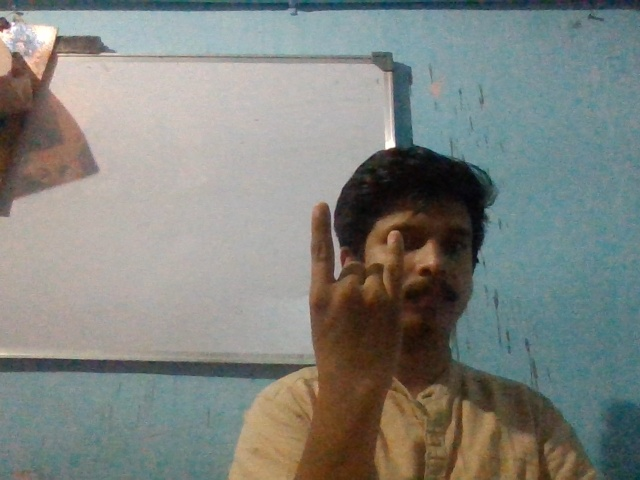Apana: (296, 191, 415, 403)
